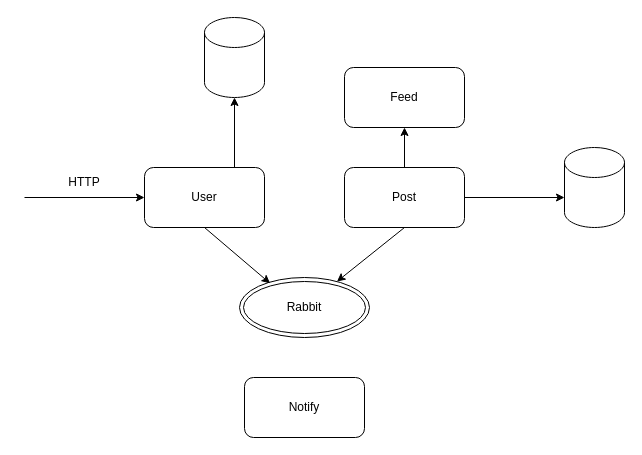
Some shapes in this 642 by 455 pixel diagram are drawn without their labels. The shapes that lost their labels are listed below. From the top down, each one's box as (x1, y1, x2, y2) in pixels, then its label:
(204, 16, 264, 98): MongoDB
(564, 146, 624, 228): PG
